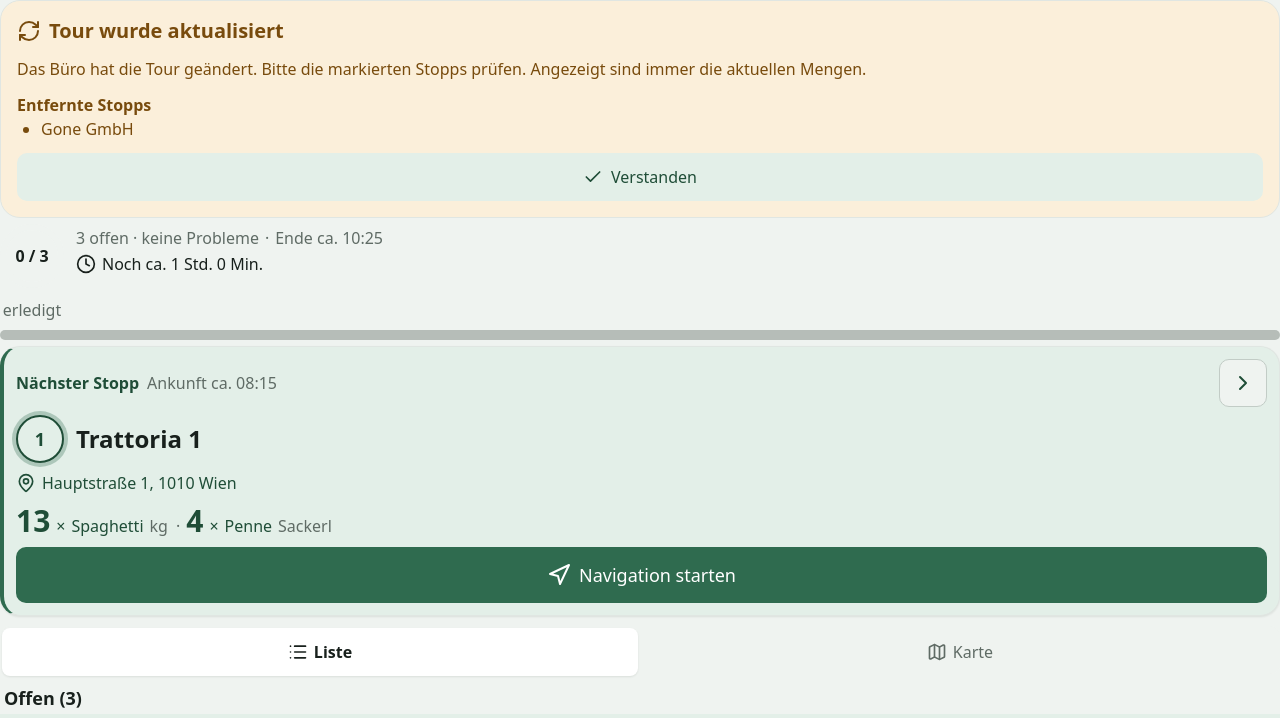
it: TodayTour in de › shows the updated banner and highlights until acknowledged
This screenshot has width=1280, height=718.
Check: the message with test id "updated-banner" is shown, box [0, 0, 1279, 218]
Check: the element with test id "removed-stops" shows "Gone GmbH", box [41, 118, 134, 140]
Step 1. Click the button with test id "updated-ack" → (640, 177), box [17, 153, 1263, 201]
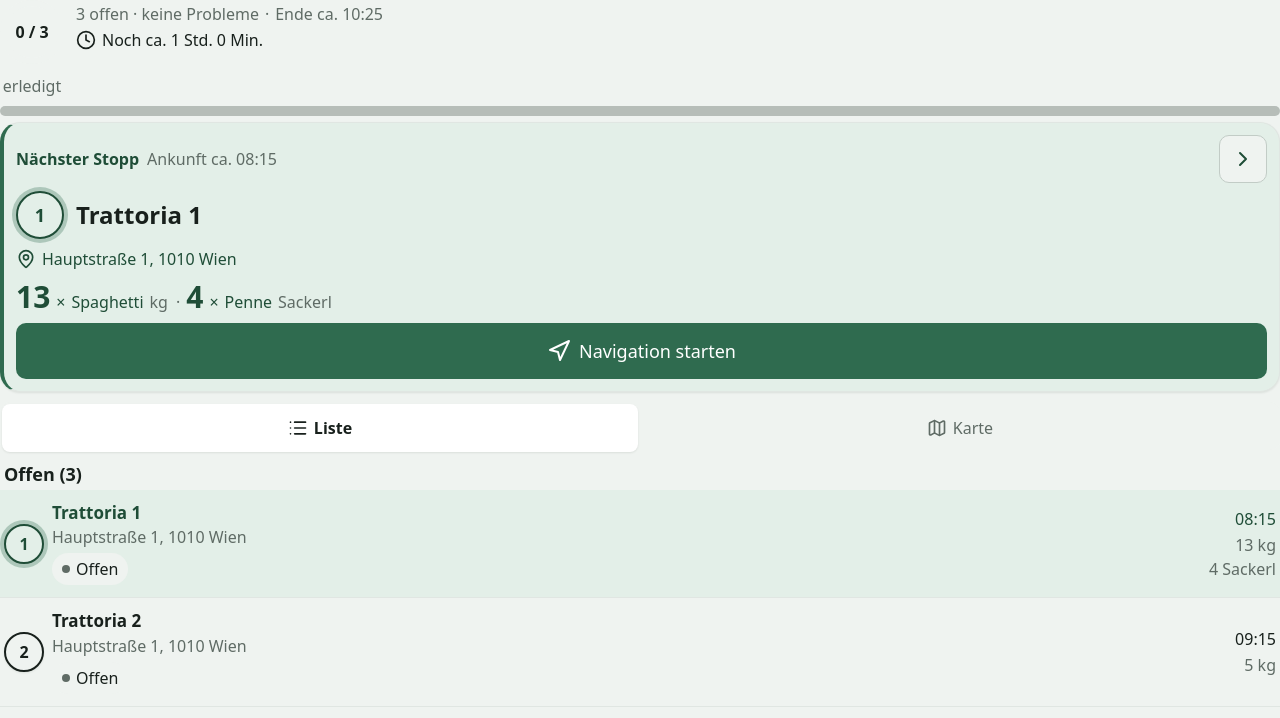
Check: the message with test id "updated-banner" is gone
